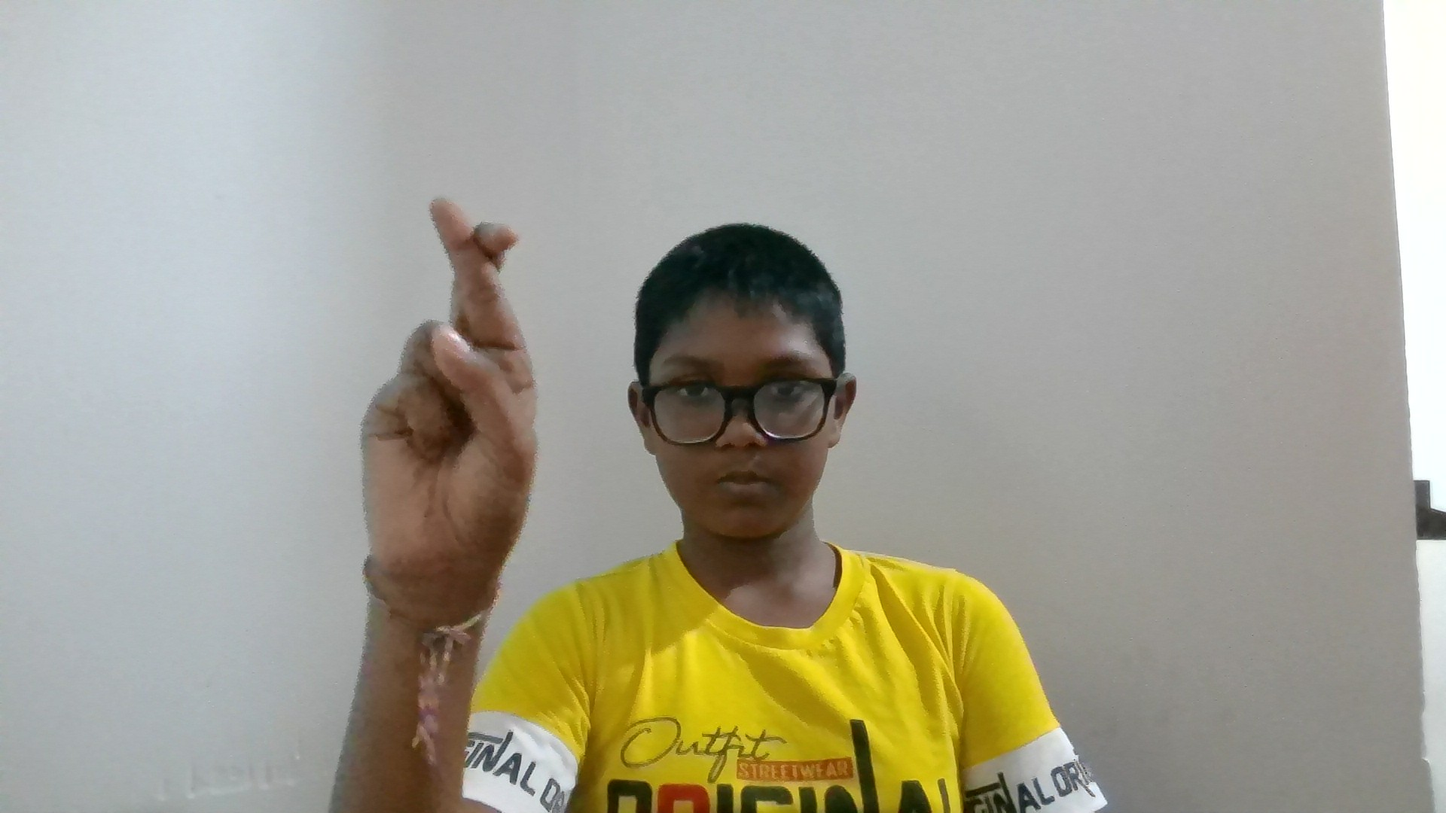Good_Luck: (282, 152, 597, 685)
